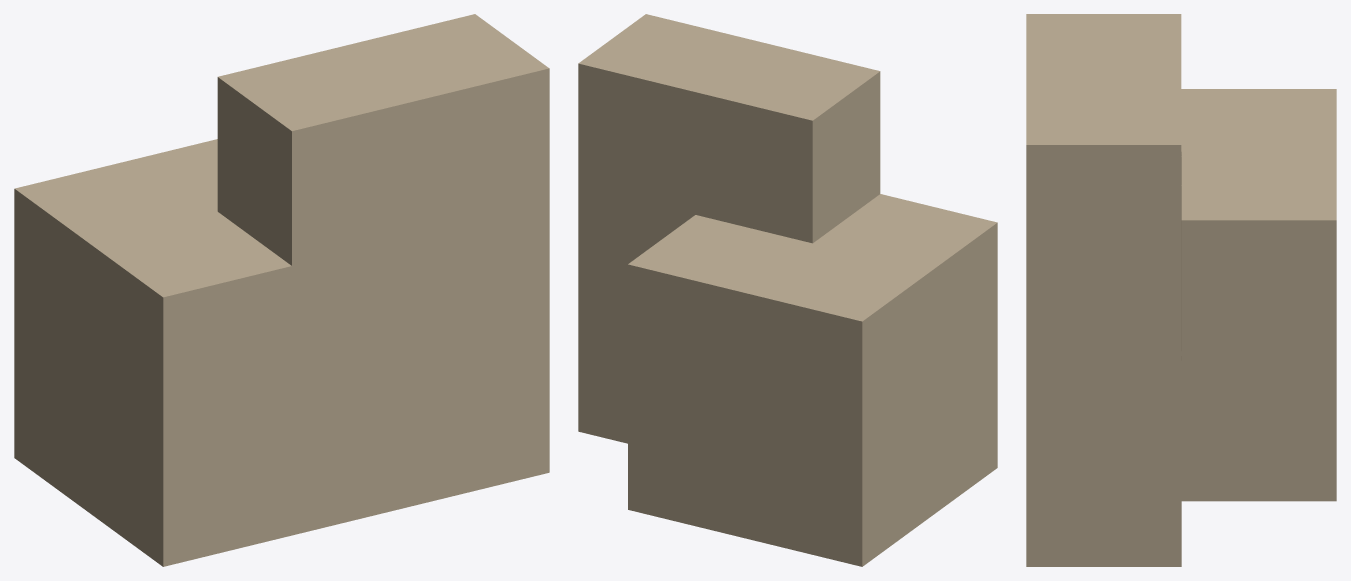
File: BS_Stone_6.fbx
3 views of the same model, side by side, from view 1: azimuth 30°, elevation 25°; view 2: azimuth 150°, elevation 25°; view 3: azimuth 270°, elevation 25° (orthographic). The views are drawn at different scales.
Parts seen in each view (by area): view 1: BS_Stone_6; view 2: BS_Stone_6; view 3: BS_Stone_6.
Part boxes in pixels (<box>): BS_Stone_6: <box>14,14,549,566</box>; BS_Stone_6: <box>578,14,997,566</box>; BS_Stone_6: <box>1026,14,1336,566</box>.
Bounding box in the file's own units: 7.5 × 5 × 7.5.
